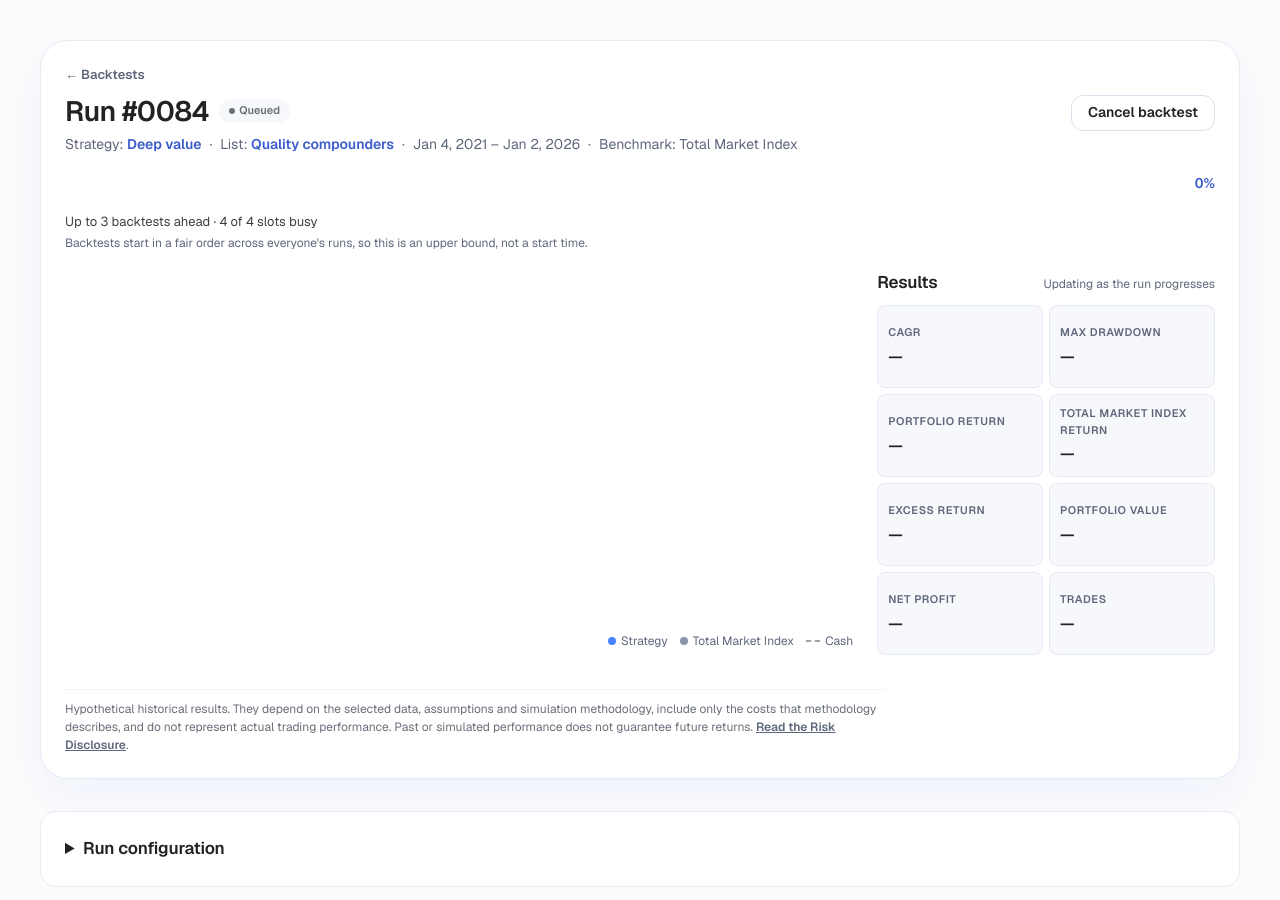
Test case: BacktestRunView cancellation › confirms first, then shows a cancelled queued run as Cancelled and stops asking
Click the button with test id "backtest-cancel" at (1143, 112), box [1071,94,1215,130]
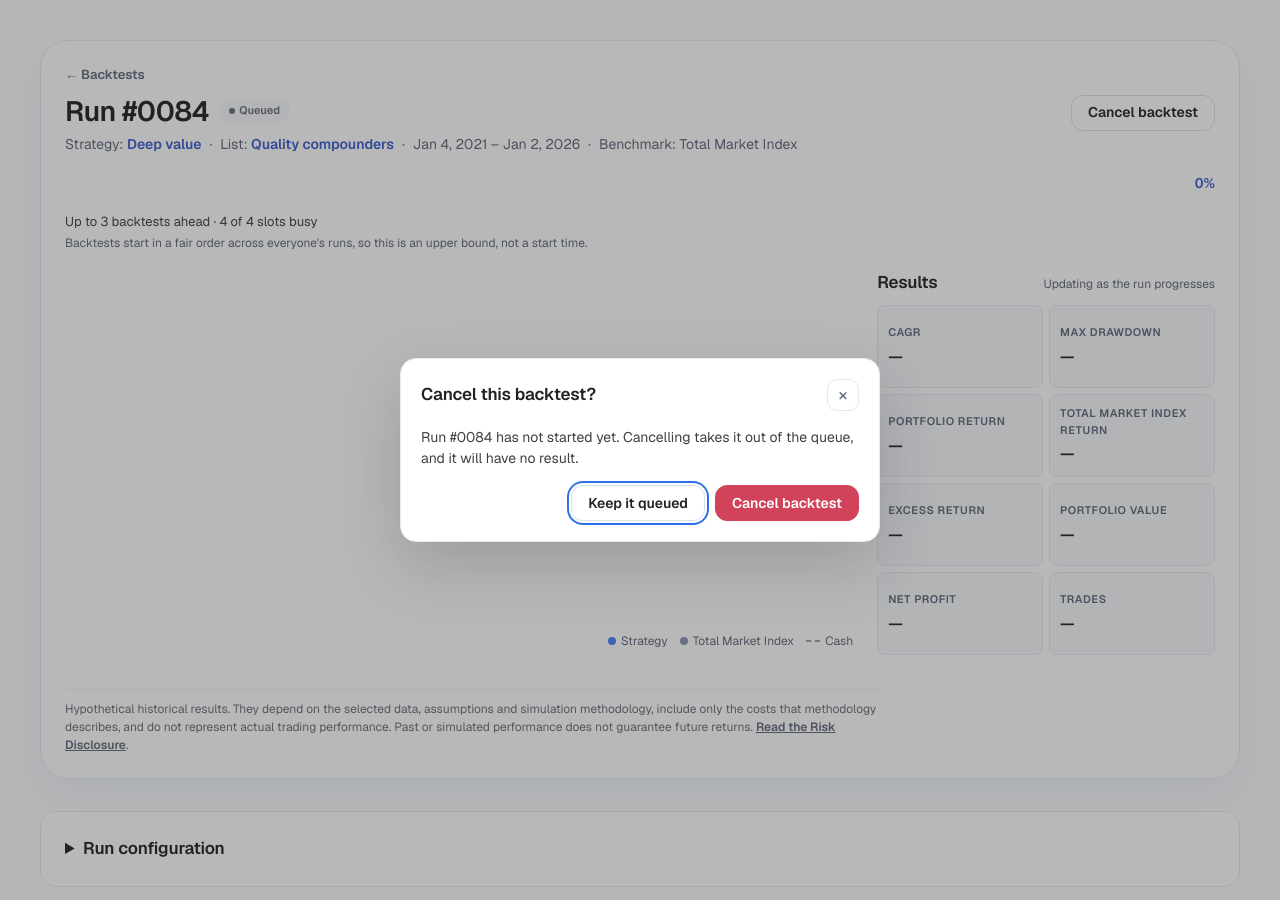
Click the button "Keep it queued" at (638, 503), box [571,485,705,521]
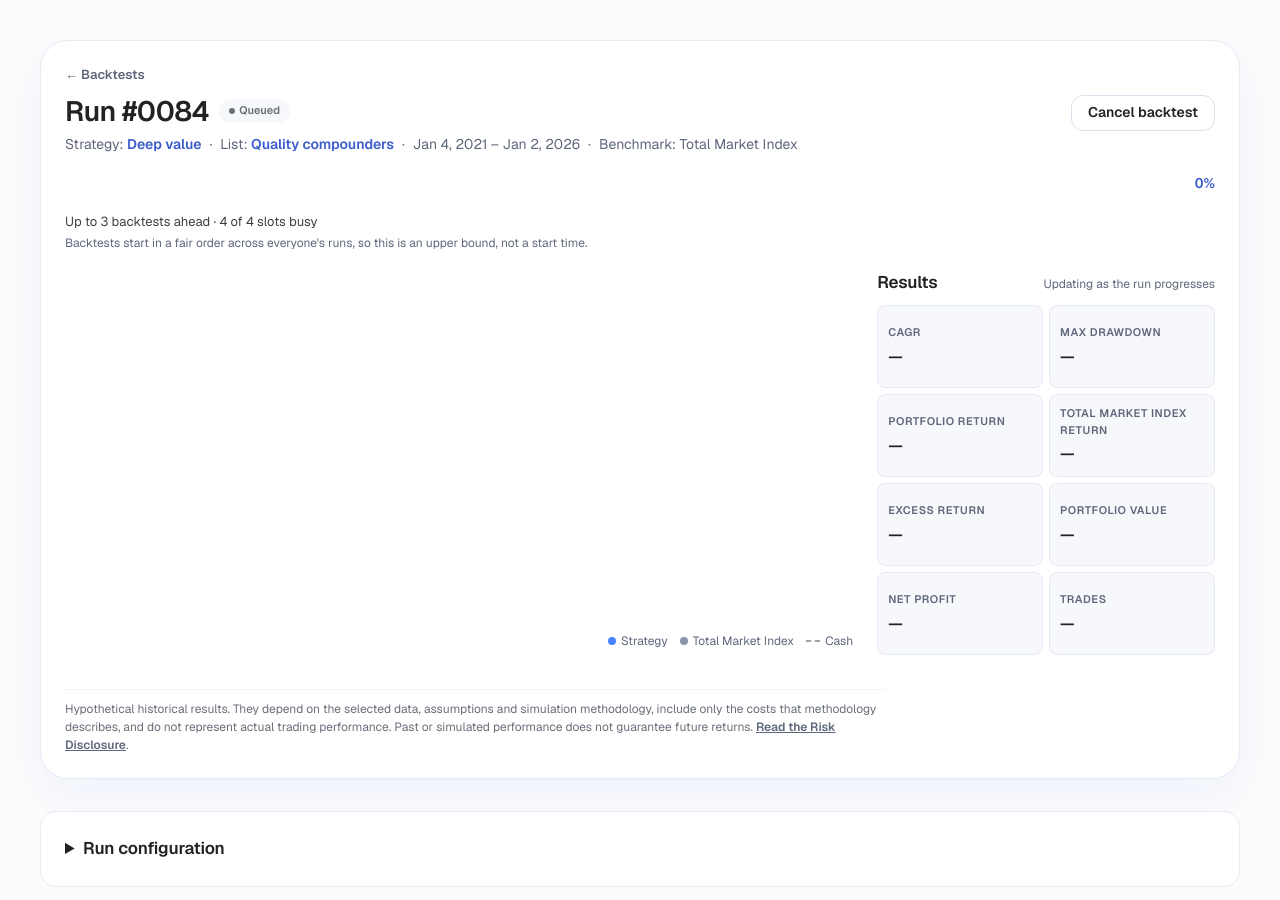
Now the dialog with test id "confirm-dialog" is gone
Click the button with test id "backtest-cancel" at (1143, 112), box [1071,94,1215,130]
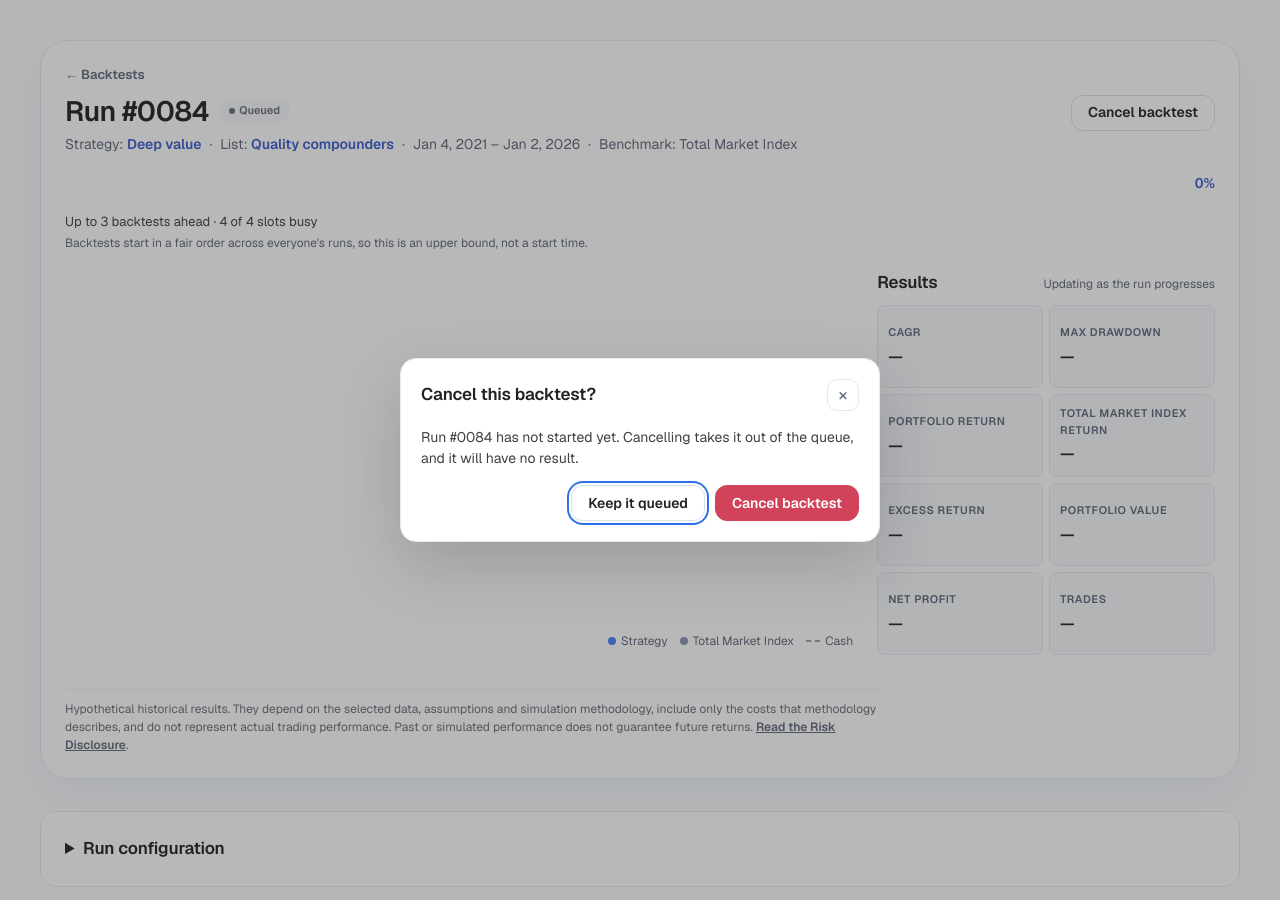
Click the button "Cancel backtest" at (787, 503), box [715,485,859,521]
Wait 50000 ms
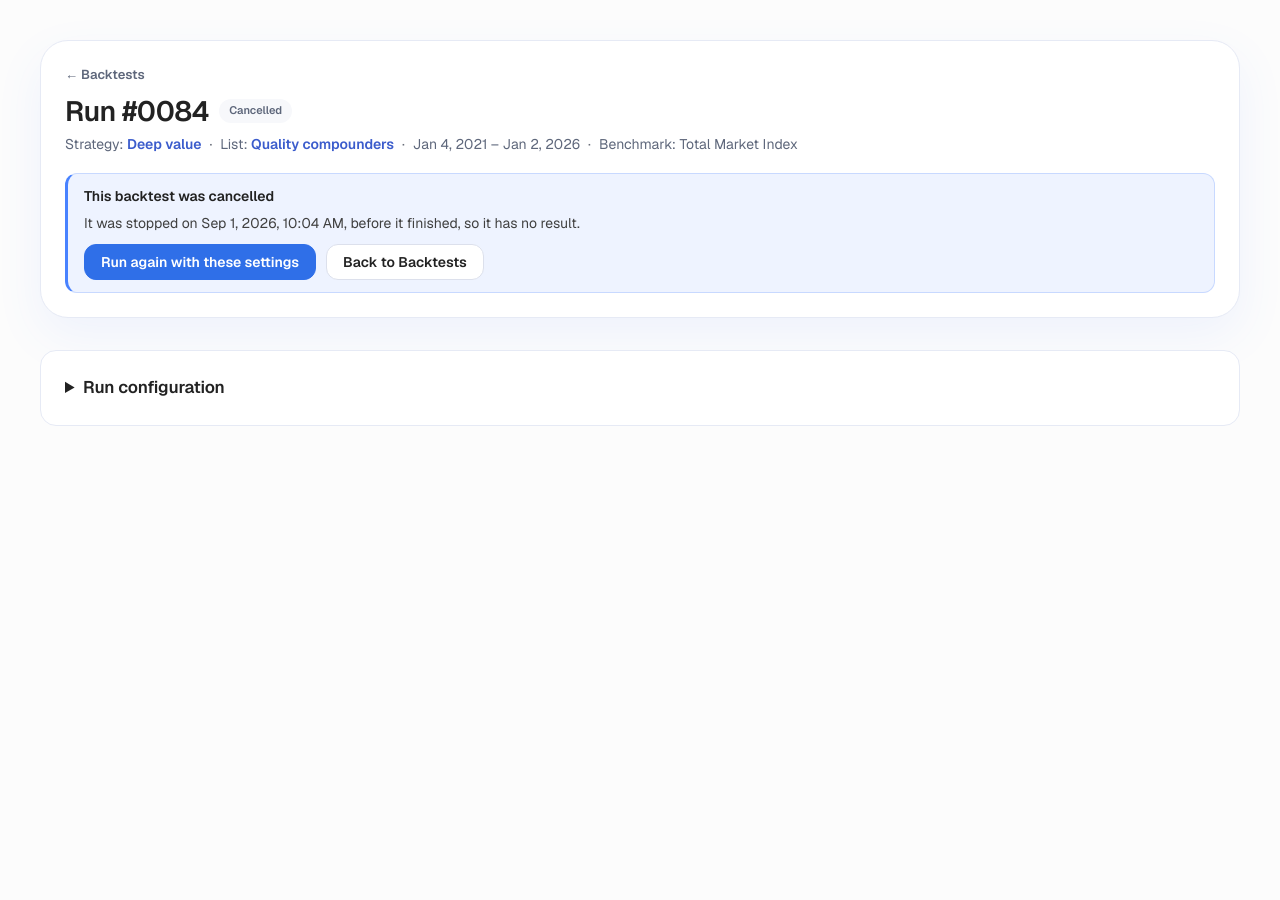
Now the dialog with test id "confirm-dialog" is gone
Now the text with test id "backtest-status" reads "Cancelled", box [229,103,282,117]
Now the element with test id "backtest-cancelled" shows "This backtest was cancelled", box [84,187,274,205]
